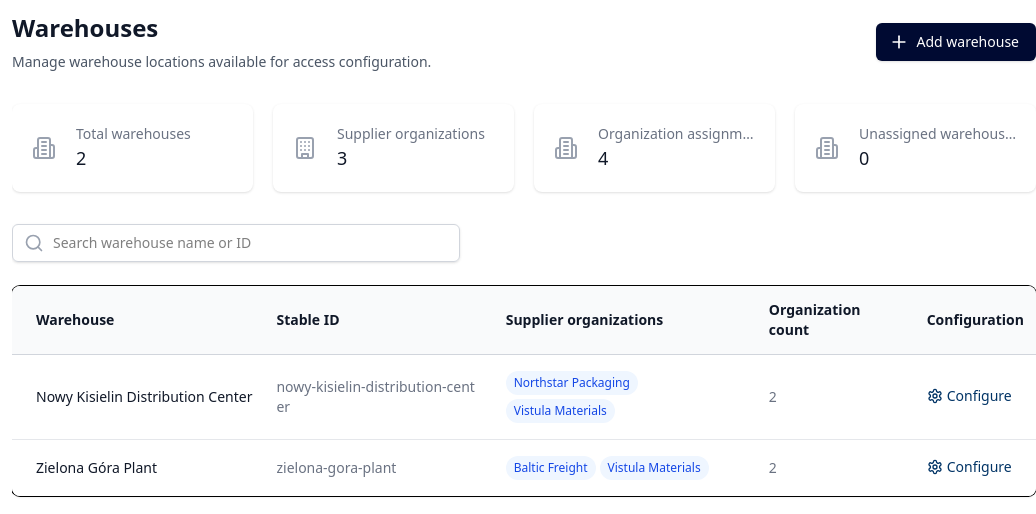
Test: WarehousesPage › 10. searches by stable ID;
This screenshot has width=1036, height=514.
Type "nowy-kisielin-distribution-center" into the field labelled "Search warehouse name or ID" at (236, 243), box [12,224,460,262]
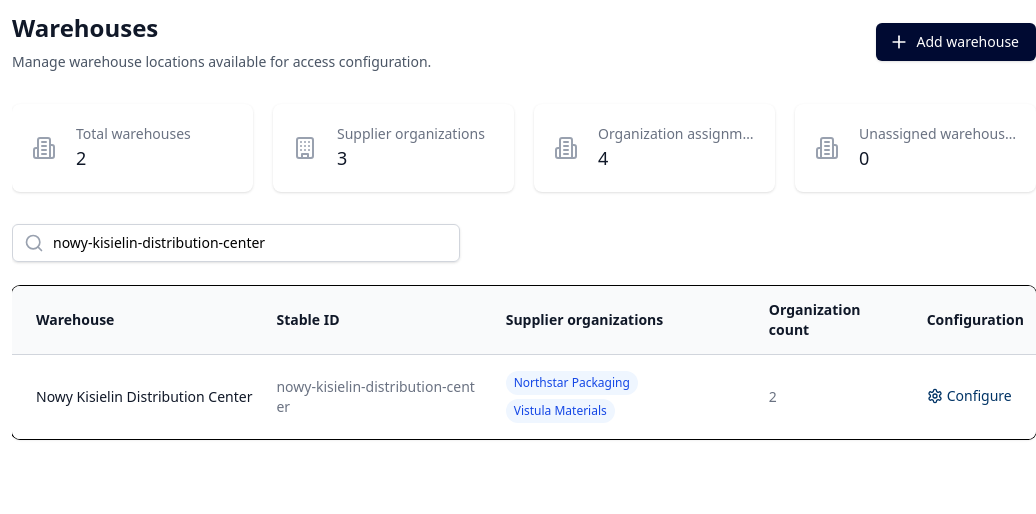
Check: the text "Nowy Kisielin Distribution Center" is shown 2 times
Check: the text "Zielona Góra Plant" is gone
